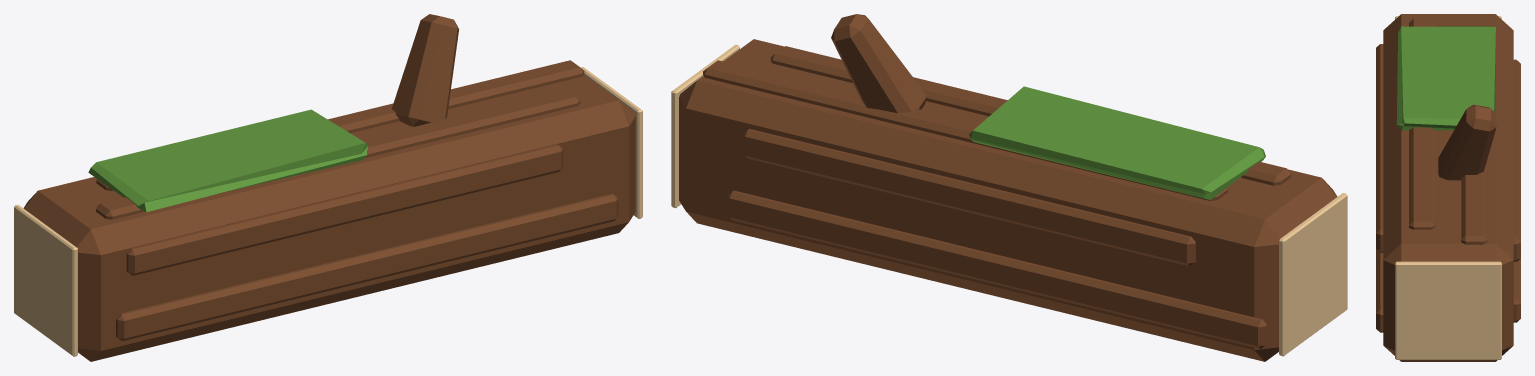
The model's file is FallenLog.fbx.
3 views of the same model, side by side, from view 1: azimuth 30°, elevation 25°; view 2: azimuth 150°, elevation 25°; view 3: azimuth 270°, elevation 25° (orthographic). The views are drawn at different scales.
Parts seen in each view (by area): view 1: Log, Moss, Rings; view 2: Log, Moss, Rings; view 3: Log, Rings, Moss.
Boxes of the visible parts, bbox=[...] form: Log: bbox=[23, 14, 635, 361]; Moss: bbox=[88, 109, 368, 212]; Rings: bbox=[14, 67, 642, 356]; Log: bbox=[679, 14, 1337, 361]; Moss: bbox=[969, 86, 1265, 199]; Rings: bbox=[671, 44, 1347, 356]; Log: bbox=[1376, 14, 1520, 361]; Rings: bbox=[1395, 16, 1501, 359]; Moss: bbox=[1396, 26, 1495, 130].
Bounding box in the file's own units: 8.1 × 2.99 × 2.
